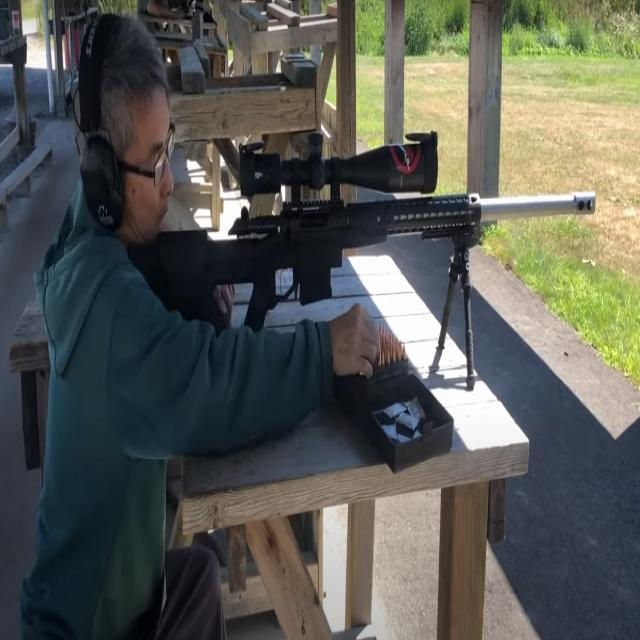rifle: (125, 117, 600, 411)
